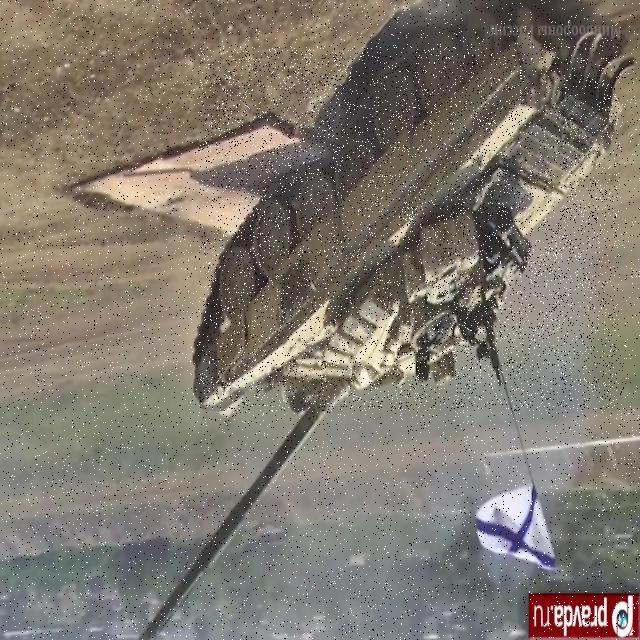MIL_MBT: (199, 46, 619, 410)
